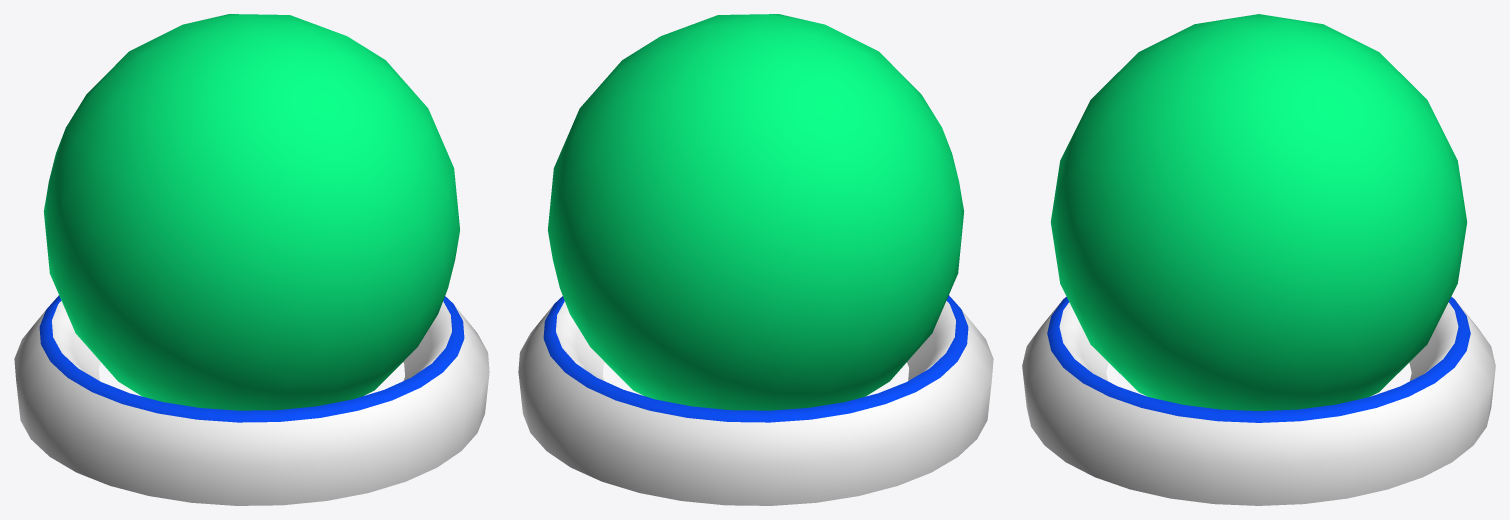
Rendered from Progeny Red Dot Sphere.FBX.
3 renders of one model, left to right at view 1: azimuth 30°, elevation 25°; view 2: azimuth 150°, elevation 25°; view 3: azimuth 270°, elevation 25°, orthographic.
Parts seen in each view (by area): view 1: GeoSphere001, Sphere001; view 2: GeoSphere001, Sphere001; view 3: GeoSphere001, Sphere001.
Part boxes in pixels (box(x1,y1,x2,y2)): GeoSphere001: box(43, 14, 459, 410); Sphere001: box(14, 295, 489, 505); GeoSphere001: box(548, 14, 964, 410); Sphere001: box(518, 295, 993, 505); GeoSphere001: box(1050, 14, 1467, 410); Sphere001: box(1022, 297, 1495, 505).
Bounding box in the file's own units: 0.3508 × 0.3084 × 0.3508.
